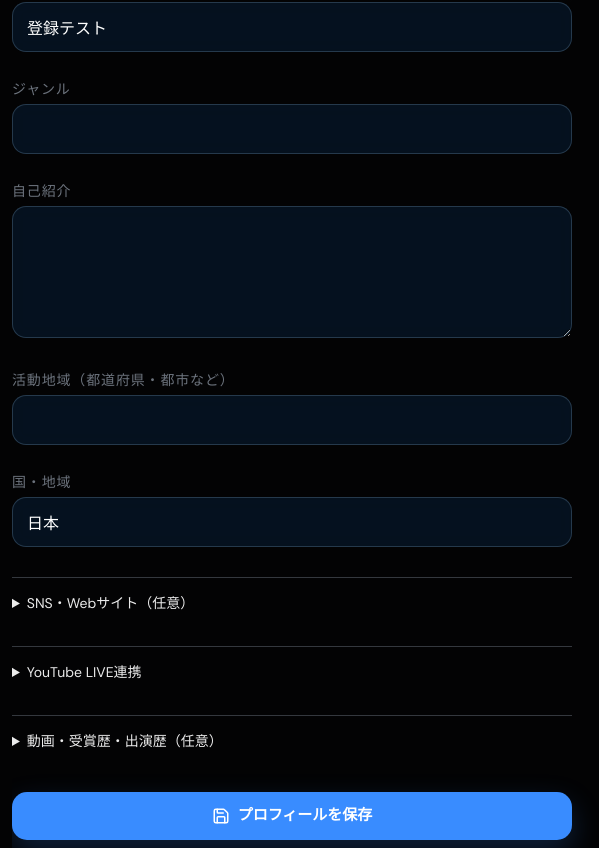
Test: smartphone performer registration › stores a ticket sales link with the existing public link data
(page scrolled)
Replace the text in the field named "チケット販売ページ" with "https://tickets.example.test/show" at (292,602), box [12,577,572,626]
(page scrolled)
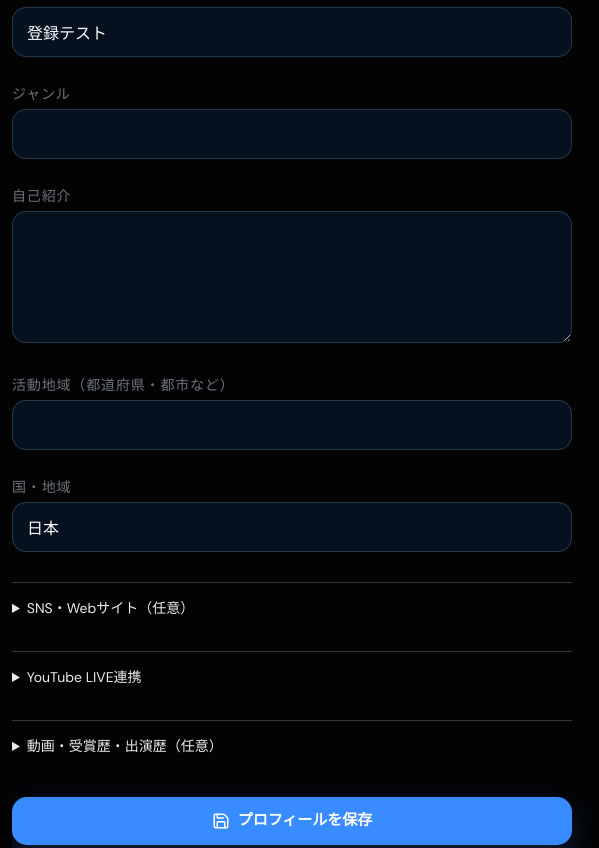
Click the button "プロフィールを保存".
click(292, 821)  # box [12,797,572,845]
(page scrolled)
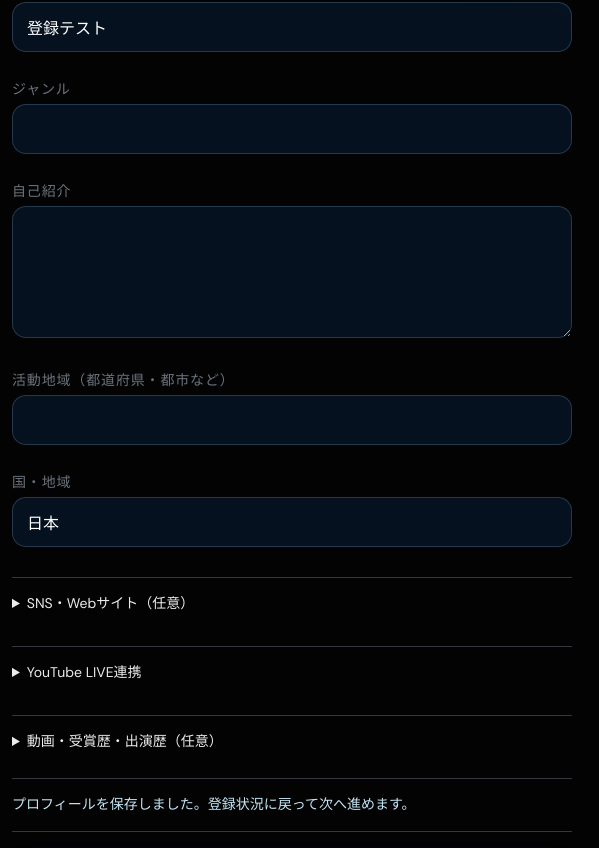
Result: the text "プロフィールを保存しました。登録状況に戻って次へ進めます。" is shown at [12,778,572,832]
